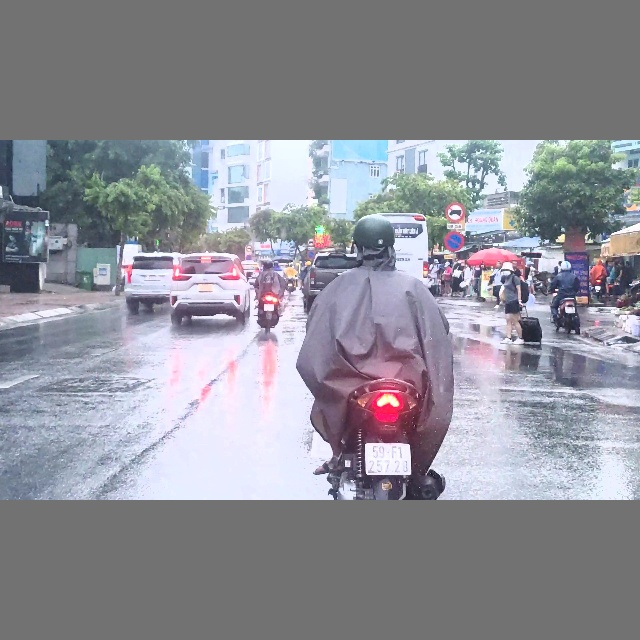P.106a*Xe tai: (445, 202, 465, 222), (307, 238, 315, 246)
P.131a: (444, 229, 464, 251), (307, 250, 315, 258)
